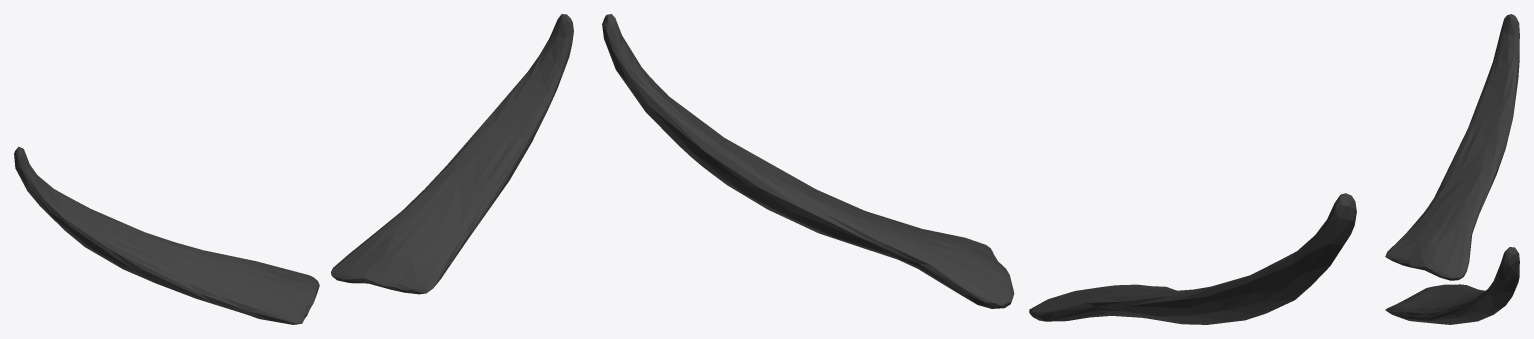
Rendered from m_piriformis.glb.
3 views of the same model, side by side, from view 1: azimuth 30°, elevation 25°; view 2: azimuth 150°, elevation 25°; view 3: azimuth 270°, elevation 25° (orthographic). The views are drawn at different scales.
Parts seen in each view (by area): view 1: m_piriformis; view 2: m_piriformis; view 3: m_piriformis.
Part boxes in pixels (x1,y1,x2,y2): m_piriformis: [14, 14, 573, 324]; m_piriformis: [602, 14, 1356, 324]; m_piriformis: [1385, 14, 1519, 324].
Size of the model in its own units: 0.00483 by 0.00148 by 0.00116.
1 material, 1 textured.
